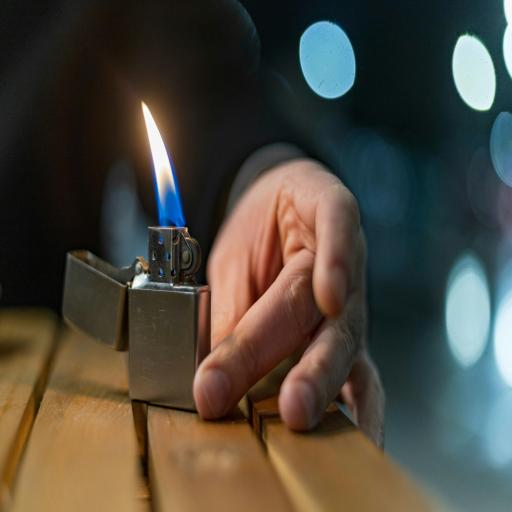lighter: (62, 96, 220, 418)
